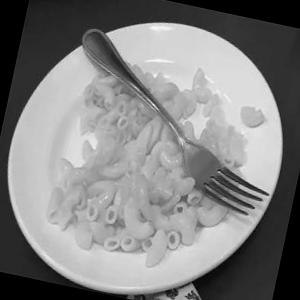pasta: (18, 15, 283, 300)
